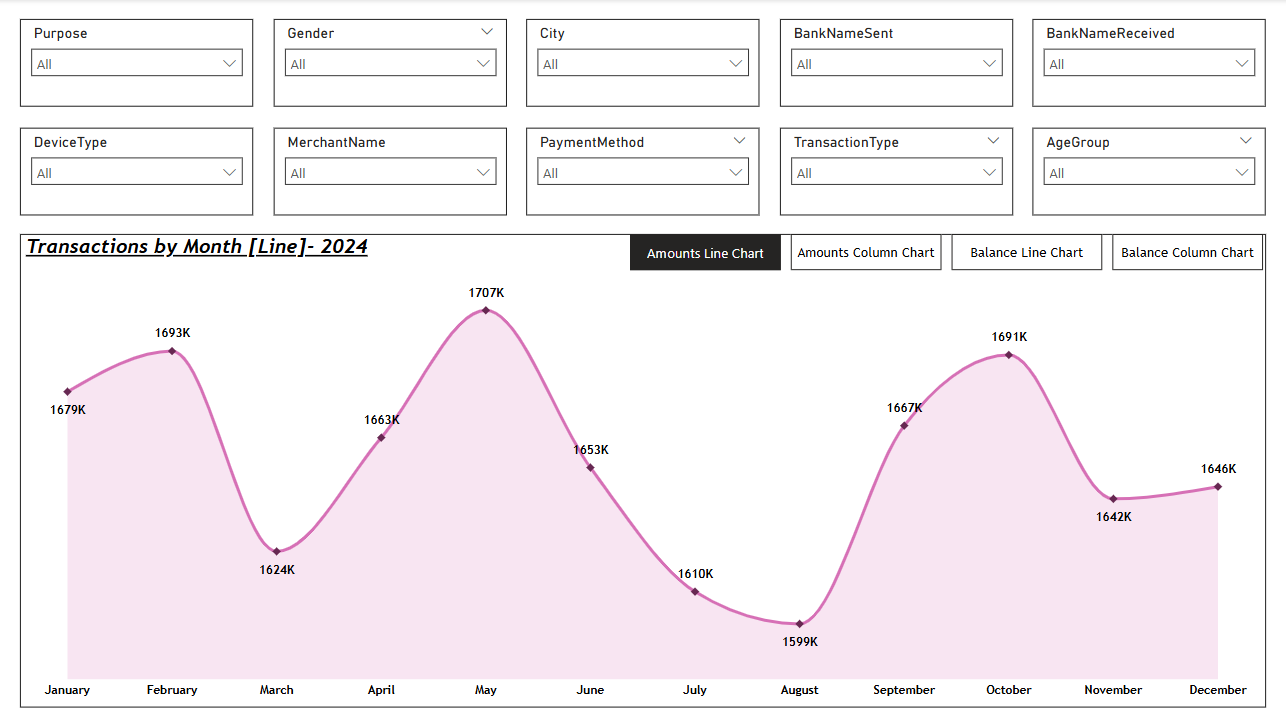

The page's visual inventory and layout, read from the dashboard file:
{"tool":"powerbi","page":{"name":"Amount/Balance Visual","canvas":[1280,720],"ordinal":0},"visuals":[{"type":"slicer","fields":{"Values":["UPI Transactions.Purpose"]},"box":[20,20,232,87.1],"z":0},{"type":"slicer","fields":{"Values":["UPI Transactions.Gender"]},"box":[272,20,232,87.1],"z":1000},{"type":"slicer","fields":{"Values":["UPI Transactions.City"]},"box":[524,20,232,87.1],"z":2000},{"type":"slicer","fields":{"Values":["UPI Transactions.BankNameReceived"]},"box":[1028,20,232,87.1],"z":3000},{"type":"slicer","fields":{"Values":["UPI Transactions.BankNameSent"]},"box":[776,20,232,87.1],"z":4000},{"type":"slicer","fields":{"Values":["UPI Transactions.DeviceType"]},"box":[20,127.5,232,87.1],"z":5000},{"type":"slicer","fields":{"Values":["UPI Transactions.MerchantName"]},"box":[272,127.5,232,87.1],"z":6000},{"type":"slicer","fields":{"Values":["UPI Transactions.PaymentMethod"]},"box":[524,127.5,232,87.1],"z":7000},{"type":"slicer","fields":{"Values":["UPI Transactions.AgeGroup"]},"box":[1028,127.5,232,87.1],"z":8000},{"type":"slicer","fields":{"Values":["UPI Transactions.TransactionType"]},"box":[776,127.5,232,87.1],"z":9000},{"type":"columnChart","title":"Balance by Month [Column]- 2024","fields":{"Category":["UPI Transactions.TransactionDate.Variation.Date Hierarchy.Month"],"Y":["Sum(UPI Transactions.RemainingBalance)"]},"box":[19.9,233.9,1240.2,471.5],"z":10000},{"type":"bookmarkNavigator","box":[627,233.9,633.2,36.1],"z":10004}]}

Visuals, with their boxes in screenshot pixels (x1, y1, x2, y2), scaled from the page's 1280x720 canvas onto the 1286x720 screenshot:
slicer - UPI Transactions.Purpose: [left=20, top=20, right=253, bottom=107]
slicer - UPI Transactions.Gender: [left=273, top=20, right=506, bottom=107]
slicer - UPI Transactions.City: [left=526, top=20, right=760, bottom=107]
slicer - UPI Transactions.BankNameReceived: [left=1033, top=20, right=1266, bottom=107]
slicer - UPI Transactions.BankNameSent: [left=780, top=20, right=1013, bottom=107]
slicer - UPI Transactions.DeviceType: [left=20, top=128, right=253, bottom=215]
slicer - UPI Transactions.MerchantName: [left=273, top=128, right=506, bottom=215]
slicer - UPI Transactions.PaymentMethod: [left=526, top=128, right=760, bottom=215]
slicer - UPI Transactions.AgeGroup: [left=1033, top=128, right=1266, bottom=215]
slicer - UPI Transactions.TransactionType: [left=780, top=128, right=1013, bottom=215]
"Balance by Month [Column]- 2024" columnChart: [left=20, top=234, right=1266, bottom=705]
bookmarkNavigator: [left=630, top=234, right=1266, bottom=270]
